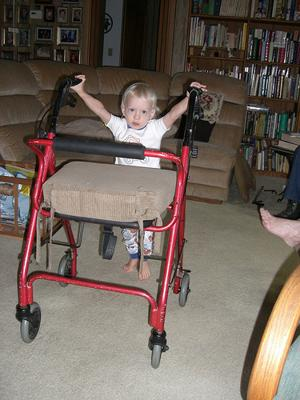person: (71, 71, 207, 283)
